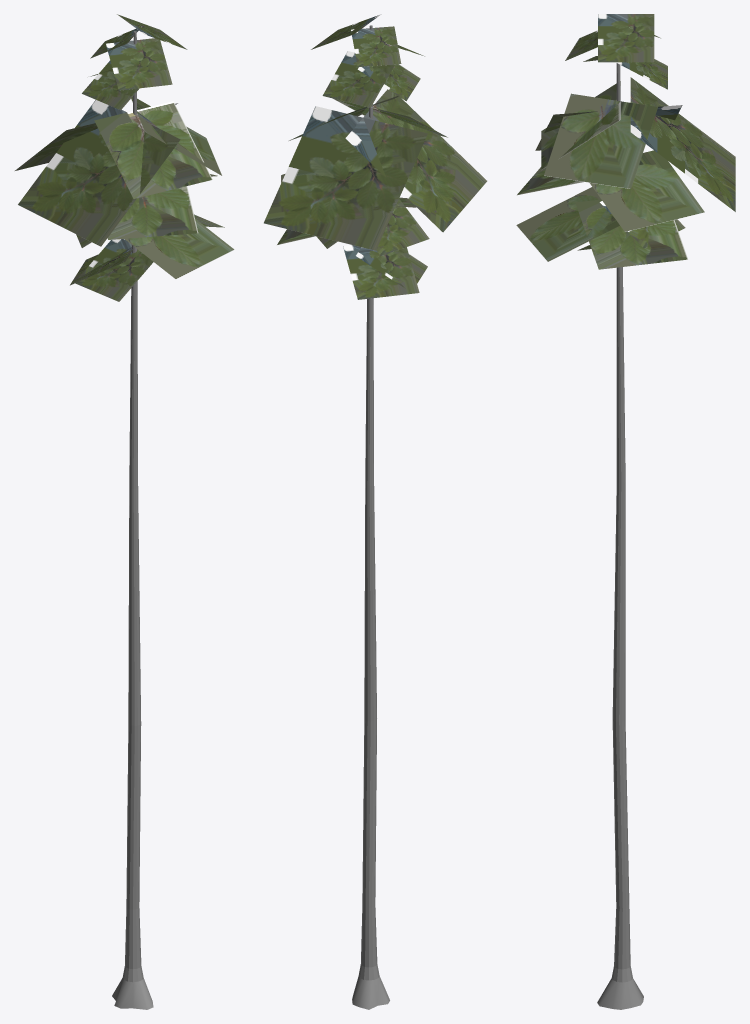
Rendered from tree_2_1.FBX.
3 renders of one model, left to right at view 1: azimuth 30°, elevation 25°; view 2: azimuth 150°, elevation 25°; view 3: azimuth 270°, elevation 25°, orthographic.
Parts seen in each view (by area): view 1: Plane002, Cylinder001; view 2: Plane002, Cylinder001; view 3: Plane002, Cylinder001.
Part boxes in pixels (<box>): Plane002: <box>15,14,234,301</box>; Cylinder001: <box>112,31,153,1009</box>; Plane002: <box>264,14,487,299</box>; Cylinder001: <box>352,25,389,1009</box>; Plane002: <box>516,14,735,269</box>; Cylinder001: <box>597,63,643,1009</box>.
Bounding box in the file's own units: 227 × 1168 × 235.
